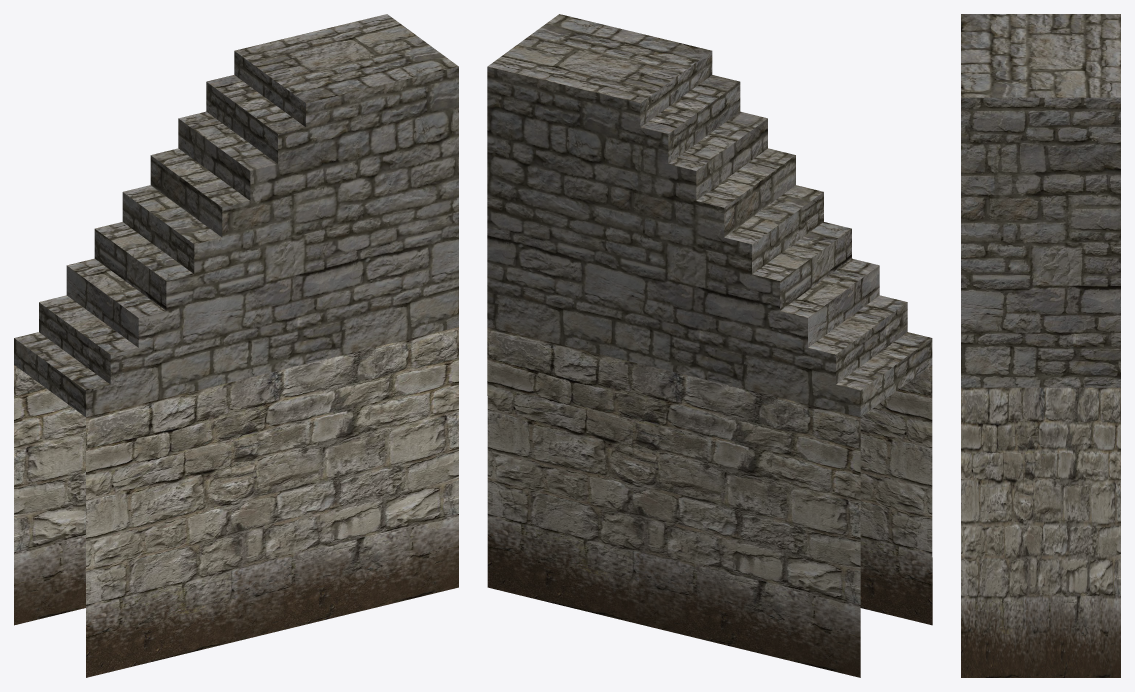
Rendered from poorlords_wall_stairs_top.FBX.
3 renders of one model, left to right at view 1: azimuth 30°, elevation 25°; view 2: azimuth 150°, elevation 25°; view 3: azimuth 270°, elevation 25°, orthographic. The views are drawn at different scales.
Visible parts, largest first — view 1: Poorlords_wall_stairs_top_; view 2: Poorlords_wall_stairs_top_; view 3: Poorlords_wall_stairs_top_.
Boxes of the visible parts, x1=… form: Poorlords_wall_stairs_top_: x1=14, y1=14, x2=458, y2=677; Poorlords_wall_stairs_top_: x1=487, y1=14, x2=932, y2=677; Poorlords_wall_stairs_top_: x1=961, y1=14, x2=1120, y2=677.
Bounding box in the file's own units: 384 × 128 × 513.
